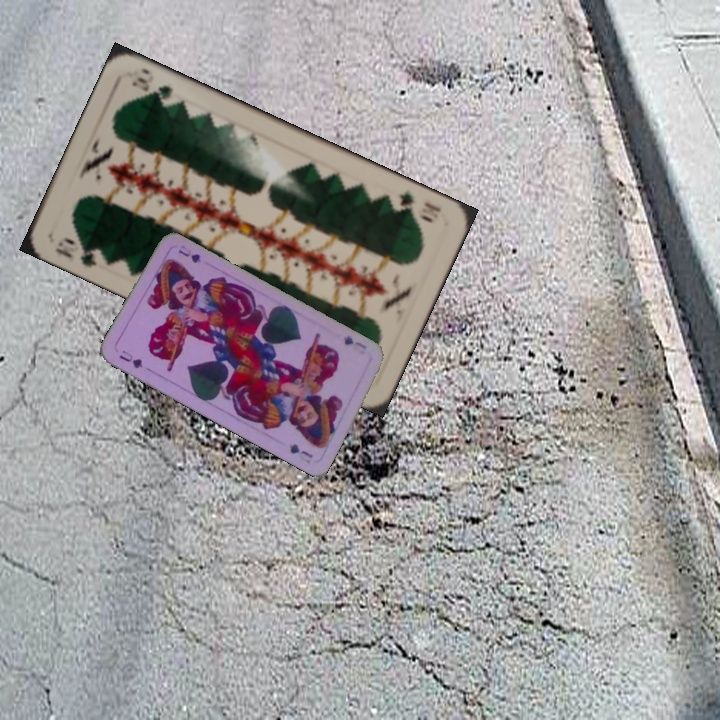G10: (51, 237, 100, 270), (395, 187, 444, 217)
GU: (115, 346, 145, 371), (339, 331, 369, 352)
